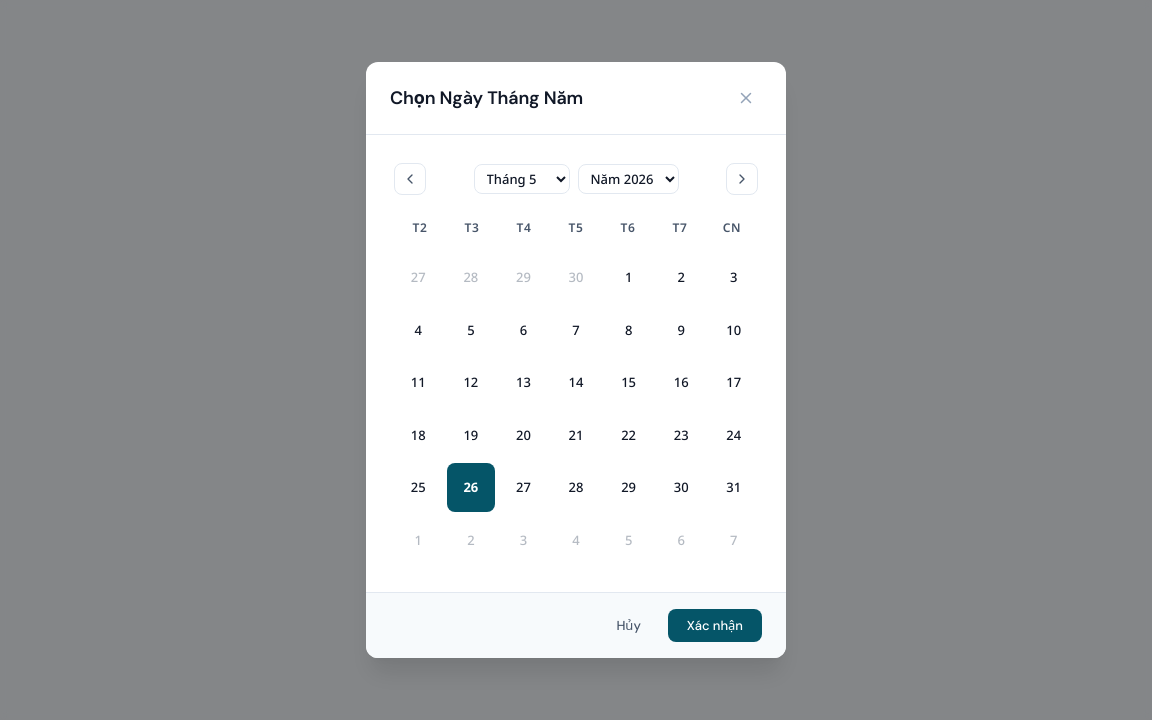
Test: DatePickerModal › navigates to previous and next month using chevron buttons
# Click previous month
Click the button named "Tháng trước" at (410, 179), box [394, 163, 426, 195]
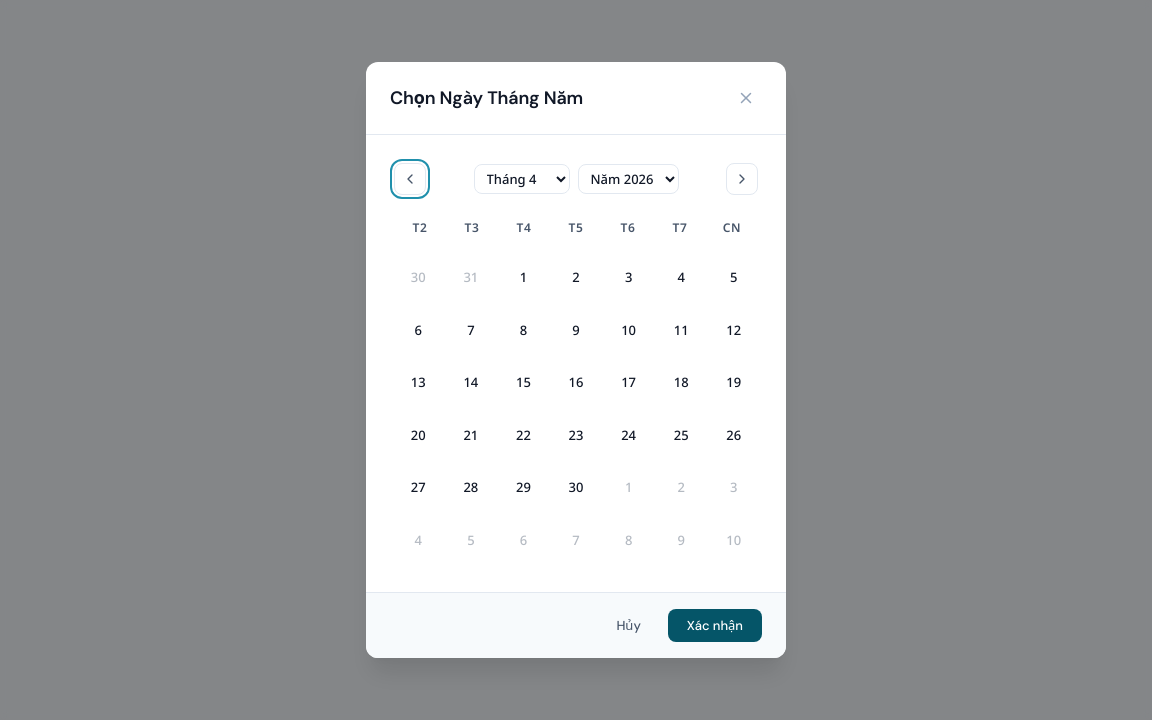
Expected: the dropdown named "Chọn tháng" shows "Tháng 4", [474, 164, 570, 194]
# Click next month twice
Click the button named "Tháng sau" at (742, 179), box [726, 163, 758, 195]
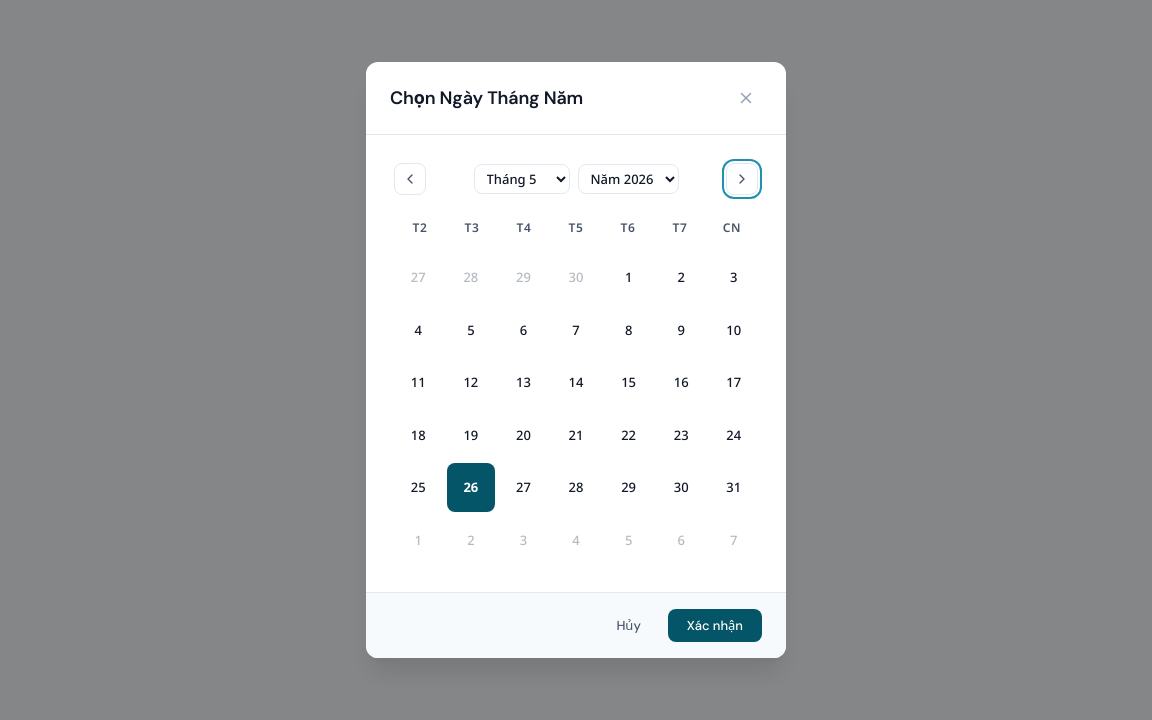
Click the button named "Tháng sau" at (742, 179), box [726, 163, 758, 195]
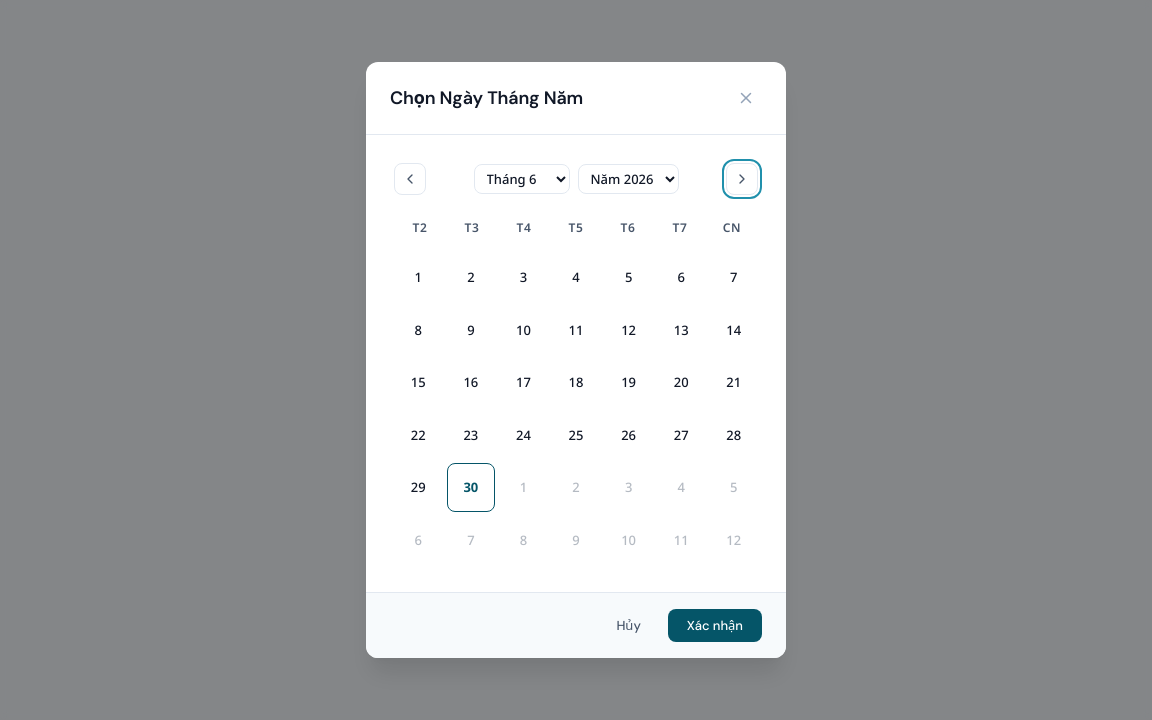
Expected: the dropdown named "Chọn tháng" shows "Tháng 6", [474, 164, 570, 194]
